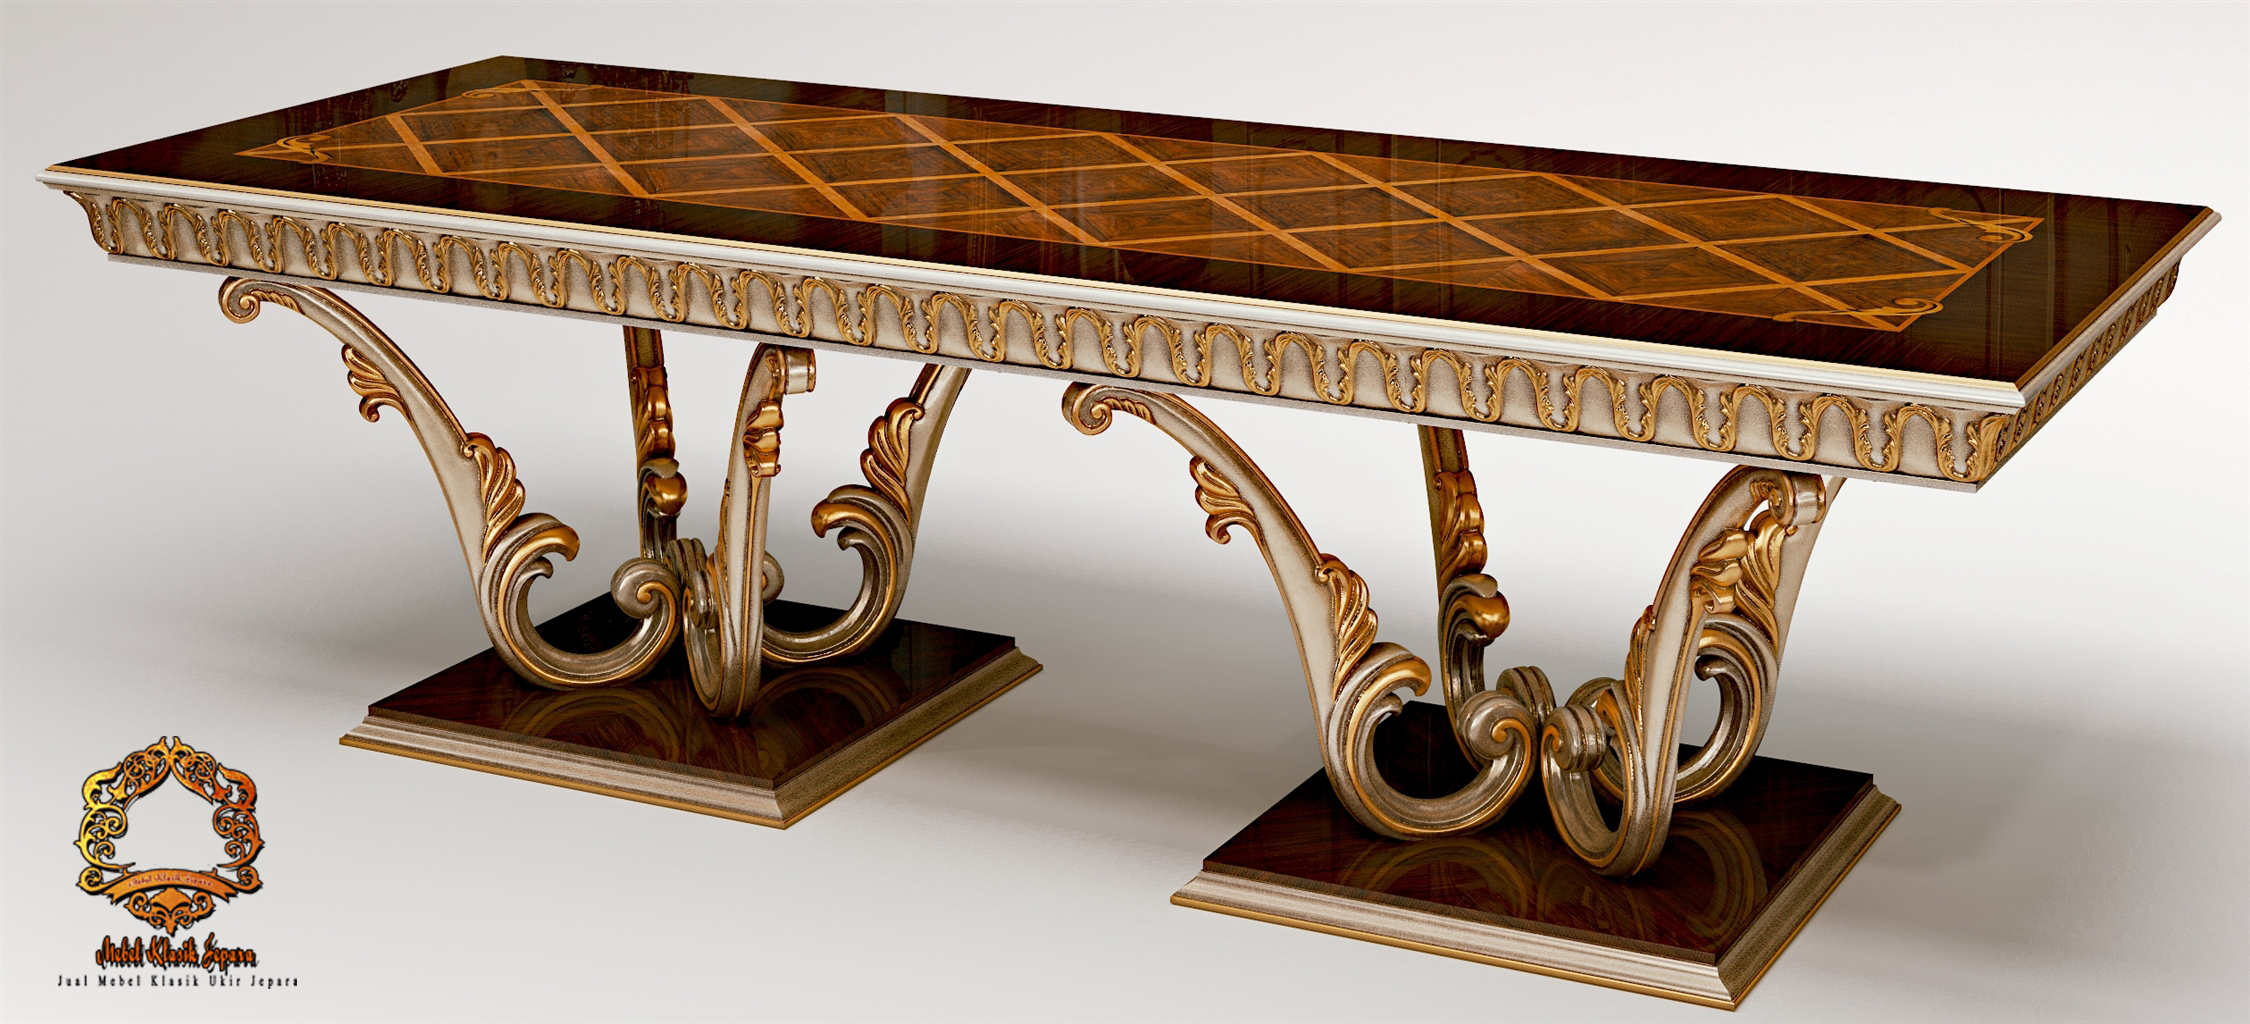Carving Table: (83, 32, 2099, 987)
